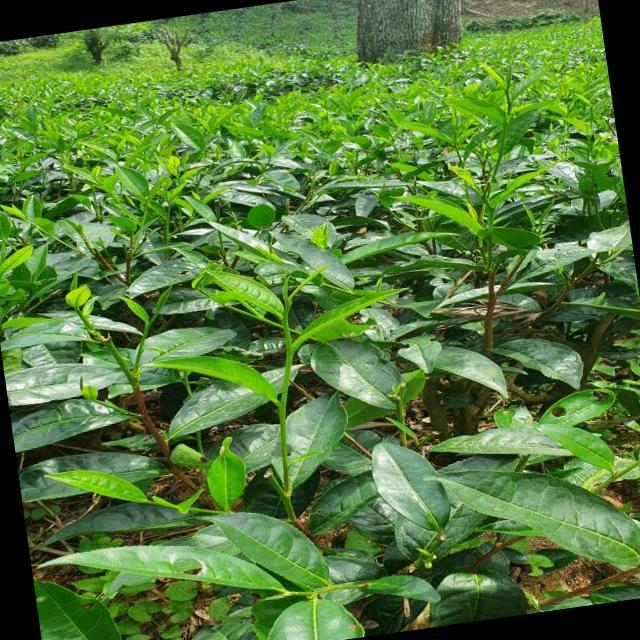Stem: (489, 209, 495, 216), (283, 315, 287, 322), (145, 324, 150, 329), (505, 91, 508, 94)
